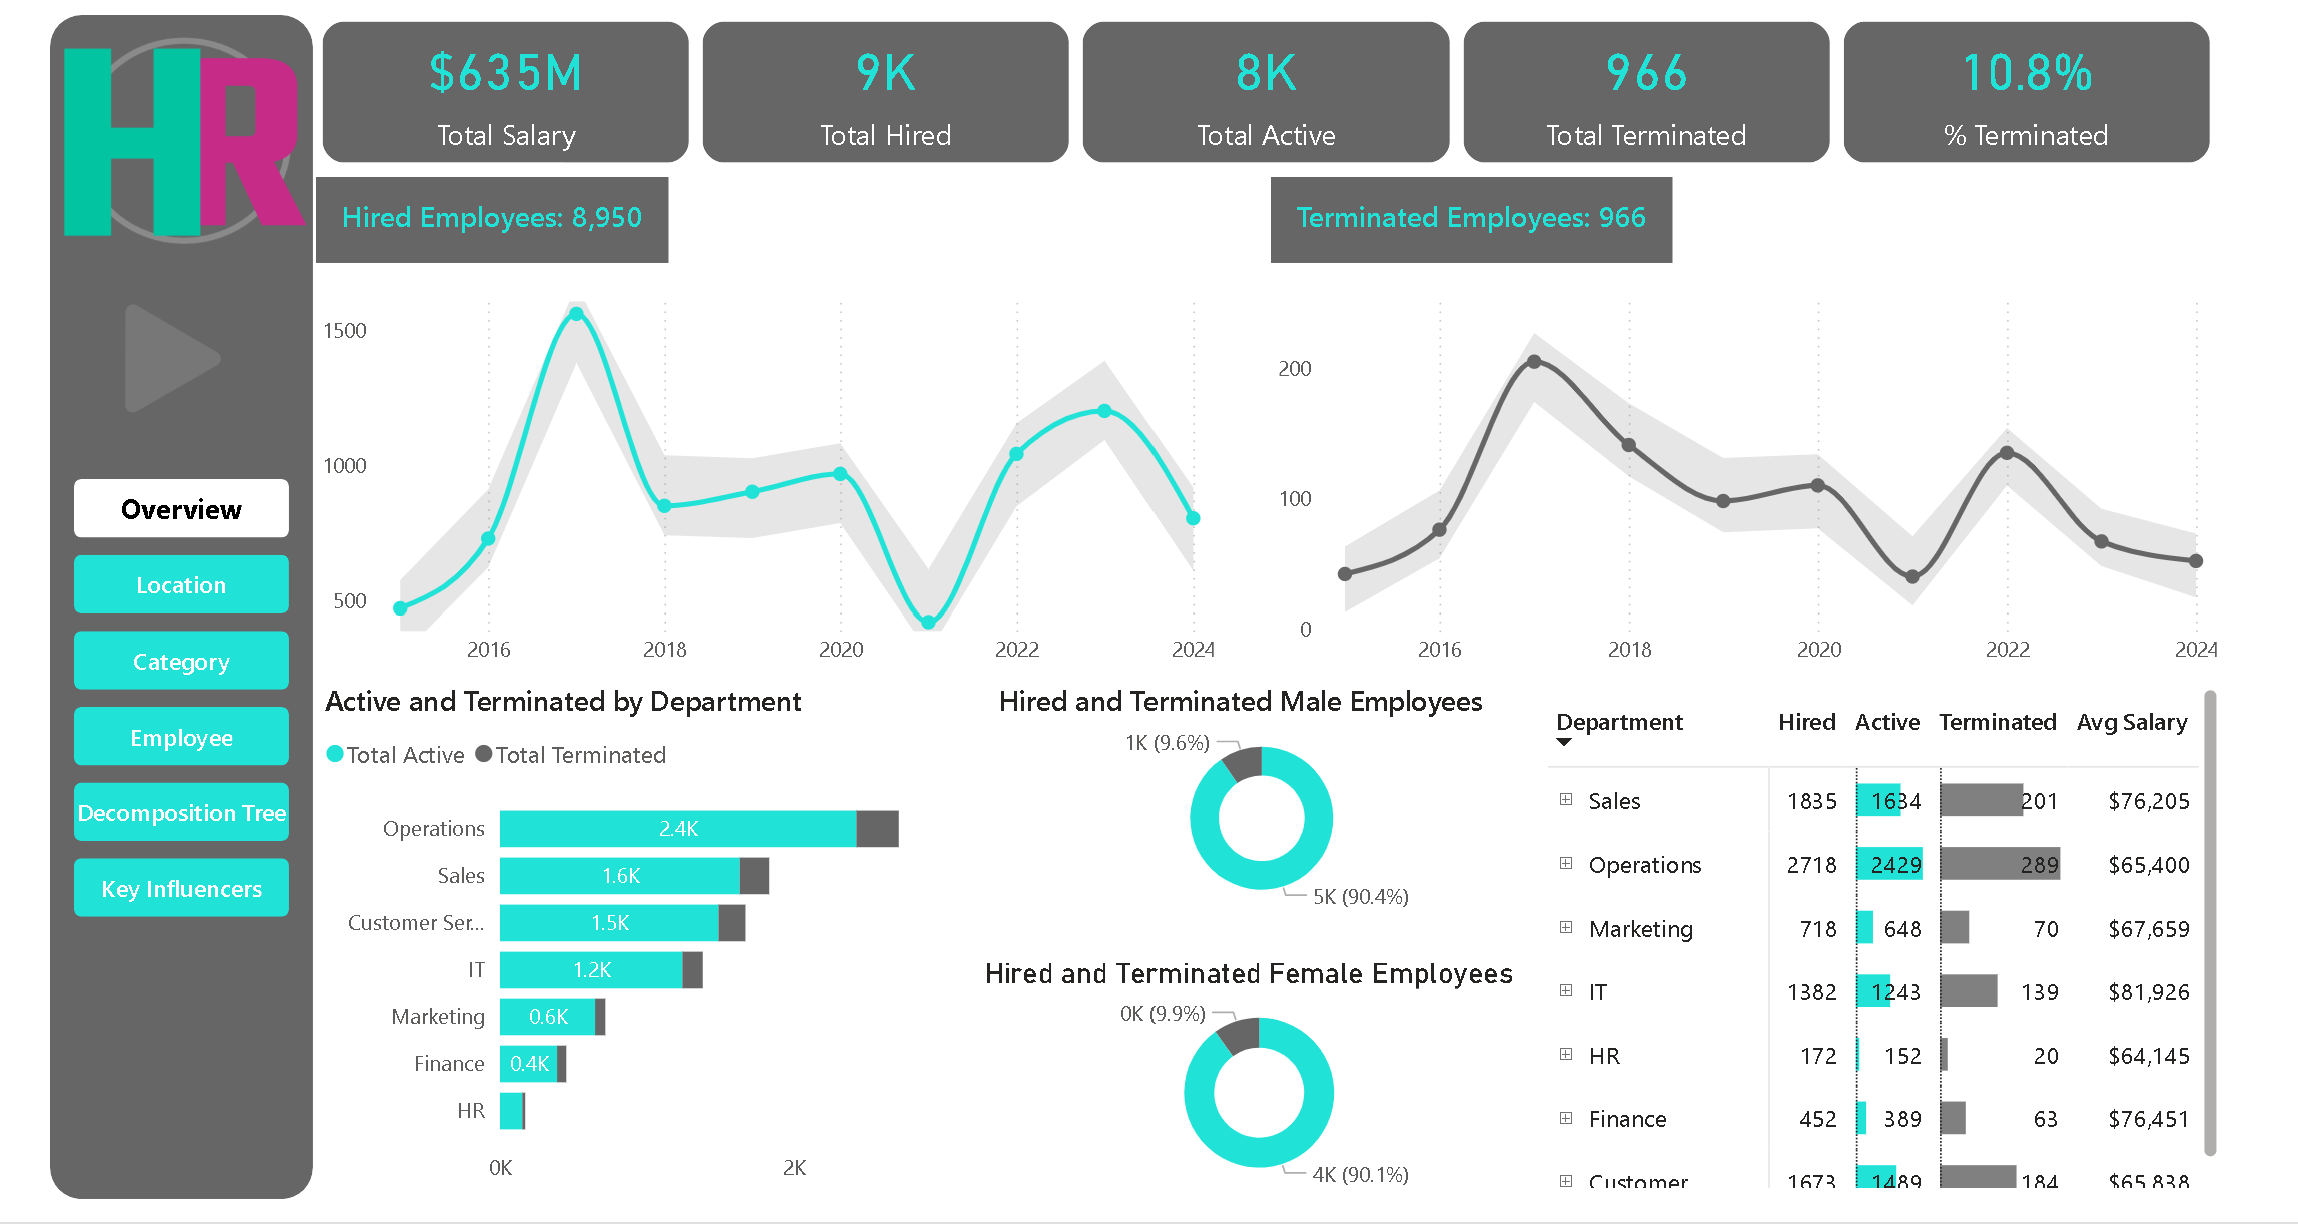

The dashboard page shown, as its layout file describes it:
{"tool":"powerbi","page":{"name":"Overview","canvas":[1280,720],"ordinal":0},"visuals":[{"type":"shape","box":[0,18.5,152.9,688.1],"z":0},{"type":"lineChart","title":"Hired by Month","fields":{"Category":["HumanResources.Hiredate.Variation.Date Hierarchy.Year","HumanResources.Hiredate.Variation.Date Hierarchy.Quarter","HumanResources.Hiredate.Variation.Date Hierarchy.Month","HumanResources.Hiredate.Variation.Date Hierarchy.Day"],"Y":["DAX Measures.Total Hired"]},"box":[155,171.7,526.7,233.3],"z":1000},{"type":"lineChart","title":"Terminated by Month","fields":{"Category":["HumanResources.Hiredate.Variation.Date Hierarchy.Year","HumanResources.Hiredate.Variation.Date Hierarchy.Quarter","HumanResources.Hiredate.Variation.Date Hierarchy.Month","HumanResources.Hiredate.Variation.Date Hierarchy.Day"],"Y":["DAX Measures.Total Terminated"]},"box":[710,171.7,555,233.3],"z":2000},{"type":"cardVisual","fields":{"Data":["DAX Measures.Total Salary","DAX Measures.Total Hired","DAX Measures.Total Active","DAX Measures.Total Terminated","DAX Measures.% Terminated"]},"box":[153.9,17.8,1111.5,92.4],"z":3000},{"type":"barChart","title":"Active and Terminated by Department","fields":{"Category":["HumanResources.Department"],"Y":["DAX Measures.Total Active","DAX Measures.Total Terminated"]},"box":[155,405,375,301.7],"z":4000},{"type":"donutChart","title":"Hired and Terminated Male  Employees","fields":{"Y":["DAX Measures.Total Male Hired Employees","DAX Measures.Total Male Terminated Employees"]},"box":[546.7,405,315,138.3],"z":5000},{"type":"donutChart","title":"Hired and Terminated Female Employees","fields":{"Y":["DAX Measures.Total Female Hired Employees","DAX Measures.Total Female Terminated Employees"]},"box":[538.3,565,328.3,140],"z":6000},{"type":"pivotTable","fields":{"Rows":["HumanResources.Department","HumanResources.Education Level"],"Values":["DAX Measures.Total Hired","DAX Measures.Total Active","DAX Measures.Total Terminated","DAX Measures.Average Salary"]},"box":[865,405,400,300],"z":7000},{"type":"card","fields":{"Values":["DAX Measures.Hired Employees Year Title"]},"box":[155,113.3,205,50],"z":8000},{"type":"card","fields":{"Values":["DAX Measures.Terminated Employees Year Title"]},"box":[710,113.3,233.3,50],"z":9000},{"type":"image","box":[2.6,18.5,152.9,145],"z":10000},{"type":"image","box":[25,181.9,92.3,73.8],"z":12000},{"type":"pageNavigator","box":[14.5,288.7,125.2,254.4],"z":14000}]}

Visuals, with their boxes on the page's 1280x720 design canvas (x1, y1, x2, y2). These are canvas units, not pixel positions in the 2298x1224 screenshot, which may show the page scaled, cropped or inside an application window:
shape: crop(0, 18, 153, 707)
"Hired by Month" lineChart: crop(155, 172, 682, 405)
"Terminated by Month" lineChart: crop(710, 172, 1265, 405)
cardVisual - DAX Measures.Total Salary x DAX Measures.Total Hired: crop(154, 18, 1265, 110)
"Active and Terminated by Department" barChart: crop(155, 405, 530, 707)
"Hired and Terminated Male  Employees" donutChart: crop(547, 405, 862, 543)
"Hired and Terminated Female Employees" donutChart: crop(538, 565, 867, 705)
pivotTable - HumanResources.Department x HumanResources.Education Level: crop(865, 405, 1265, 705)
card - DAX Measures.Hired Employees Year Title: crop(155, 113, 360, 163)
card - DAX Measures.Terminated Employees Year Title: crop(710, 113, 943, 163)
image: crop(3, 18, 156, 164)
image: crop(25, 182, 117, 256)
pageNavigator: crop(14, 289, 140, 543)
